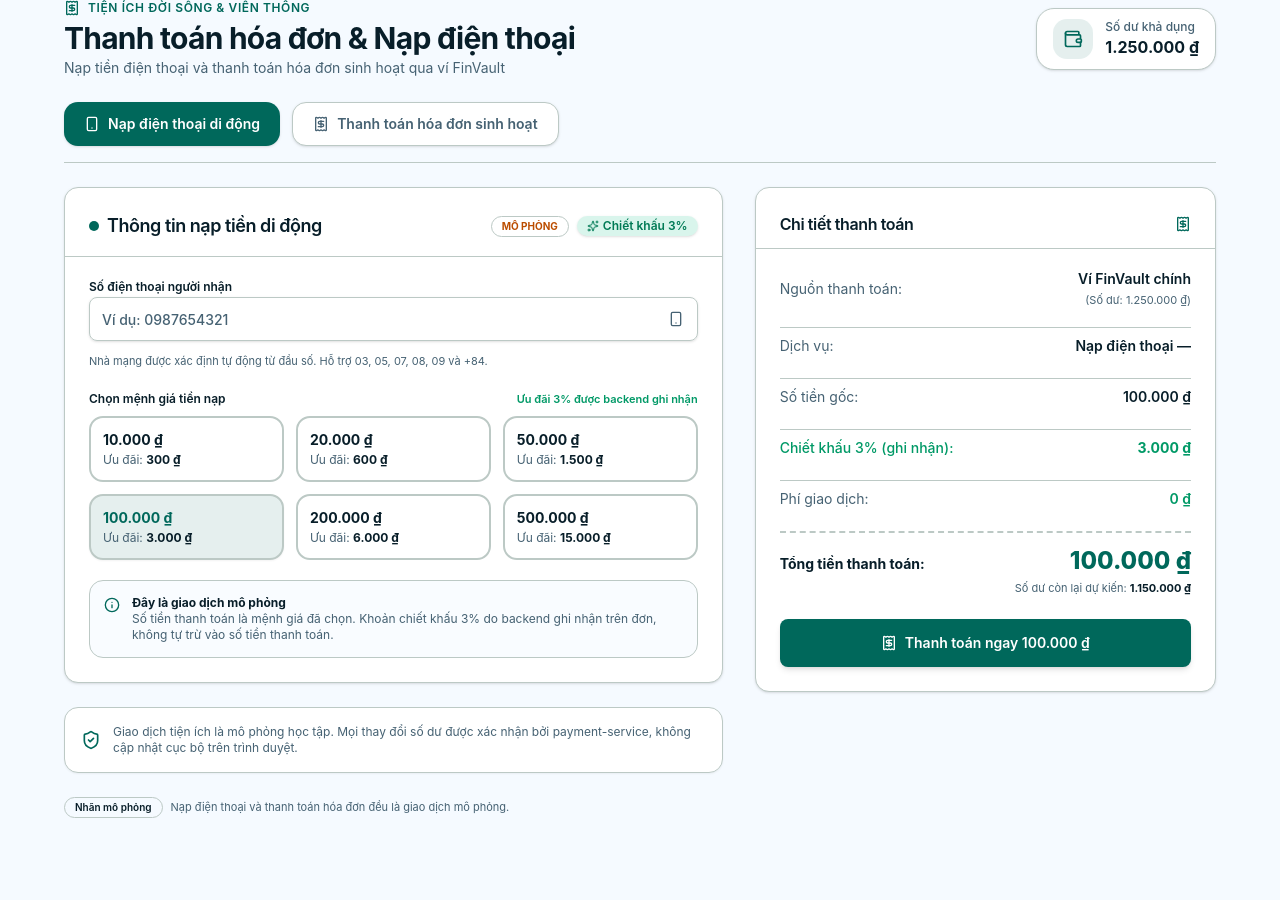
Test: Utilities bill payment [N16] › tra cứu hóa đơn rồi thanh toán đúng amount từ lookup
Expected: the text "Nạp điện thoại di động" is shown, [108, 114, 260, 134]
Click the button "Thanh toán hóa đơn sinh hoạt" at (425, 124), box [292, 102, 559, 146]
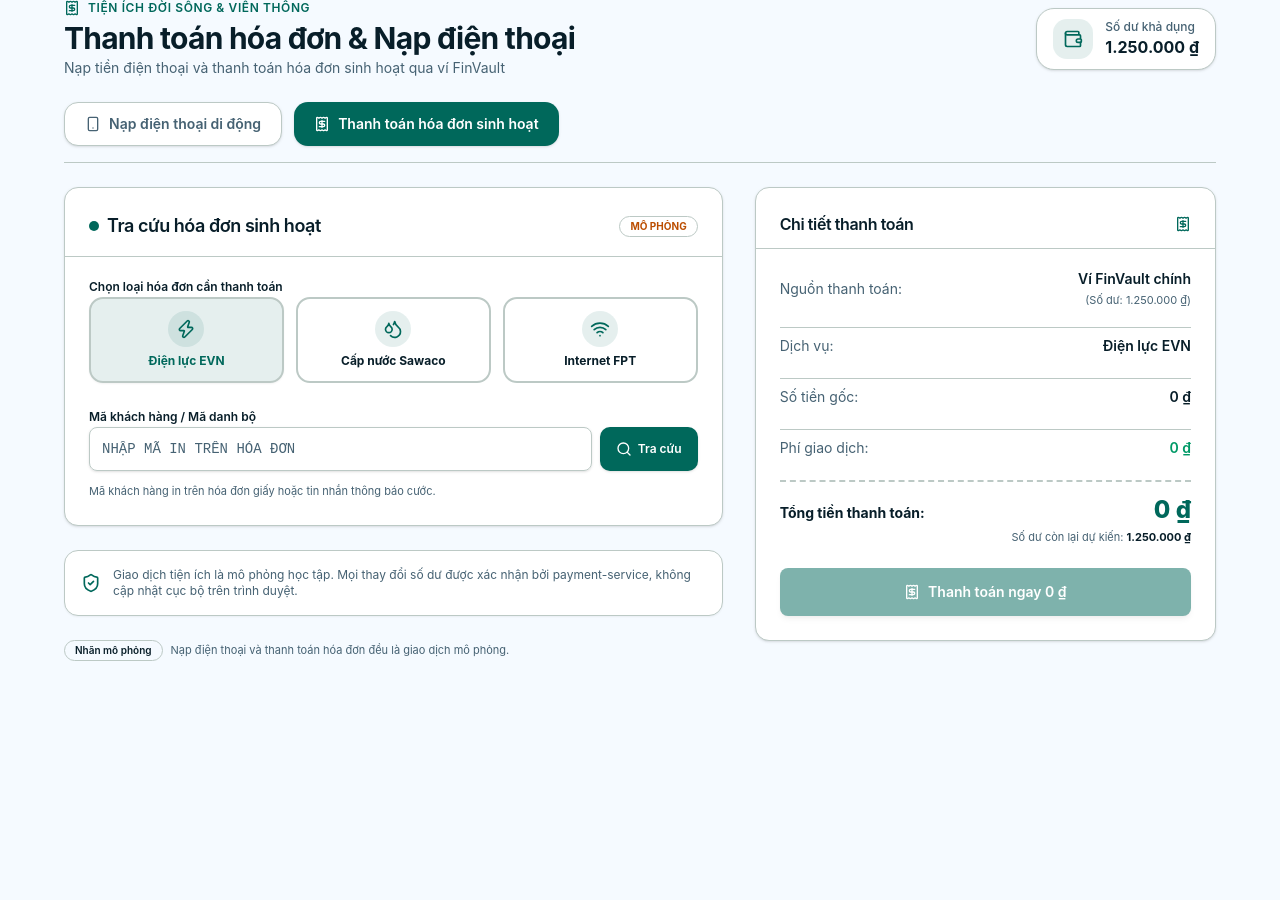
Expected: the text "Mô phỏng" is shown, [620, 216, 698, 236]
Type "PE0100028491" into the field labelled "Mã khách hàng / Mã danh bộ" at (340, 449), box [89, 427, 592, 471]
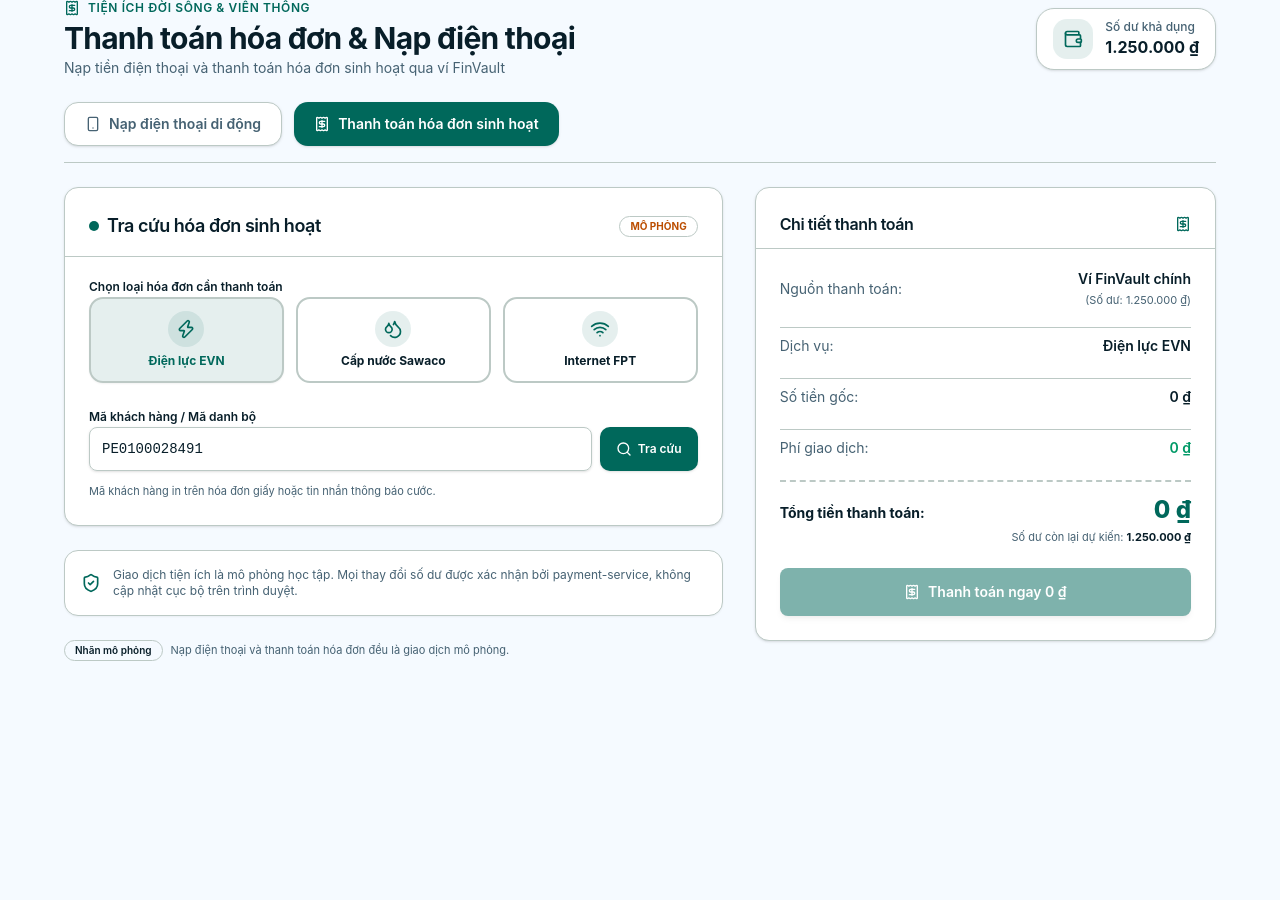
Click the button "Tra cứu" at (649, 449), box [600, 427, 698, 471]
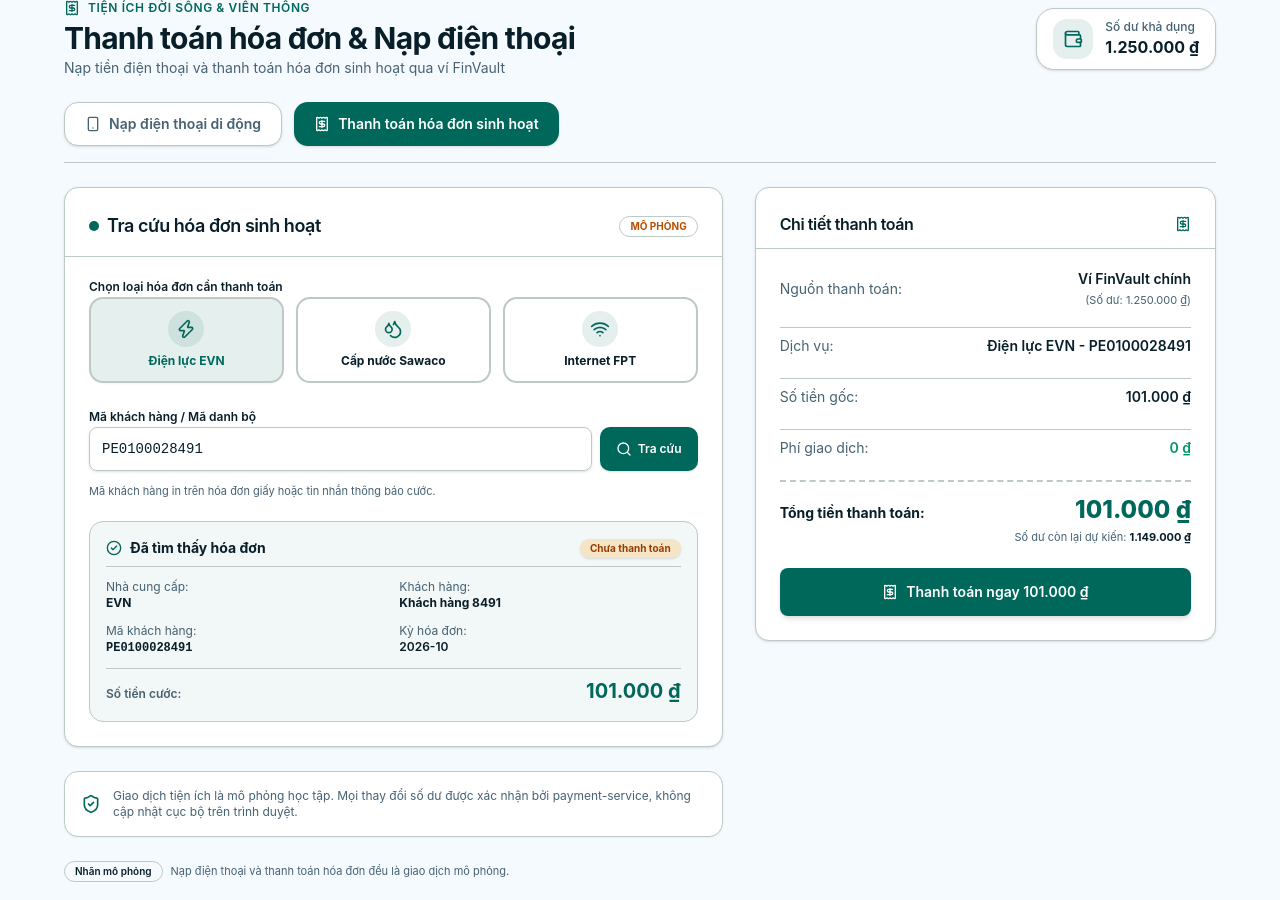
Now the text "Khách hàng 8491" is shown, box [399, 595, 501, 610]
Click the button "Thanh toán ngay 101.000 ₫" at (985, 592), box [780, 568, 1191, 616]
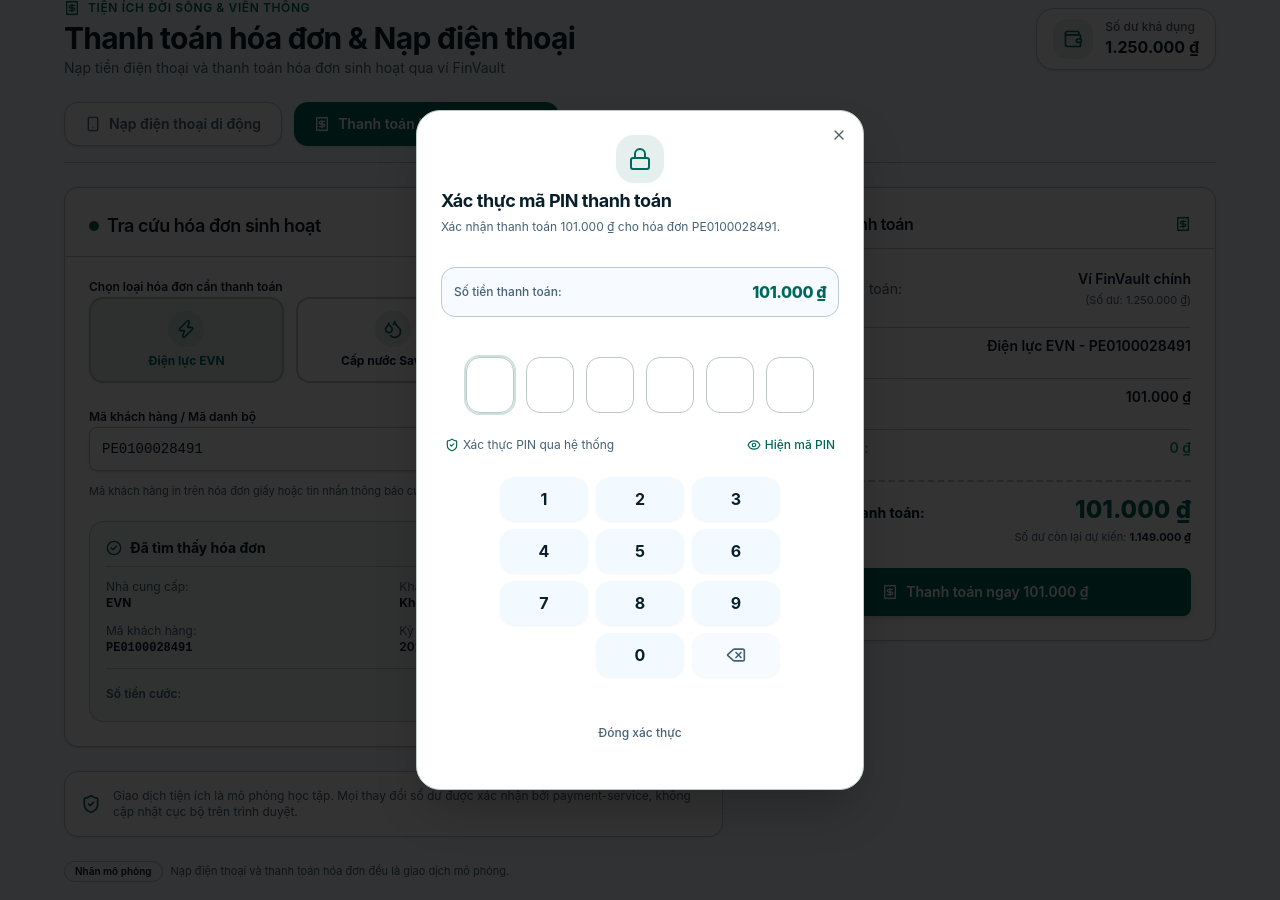
Now the heading "Xác thực mã PIN thanh toán" is shown, box [441, 190, 672, 211]
